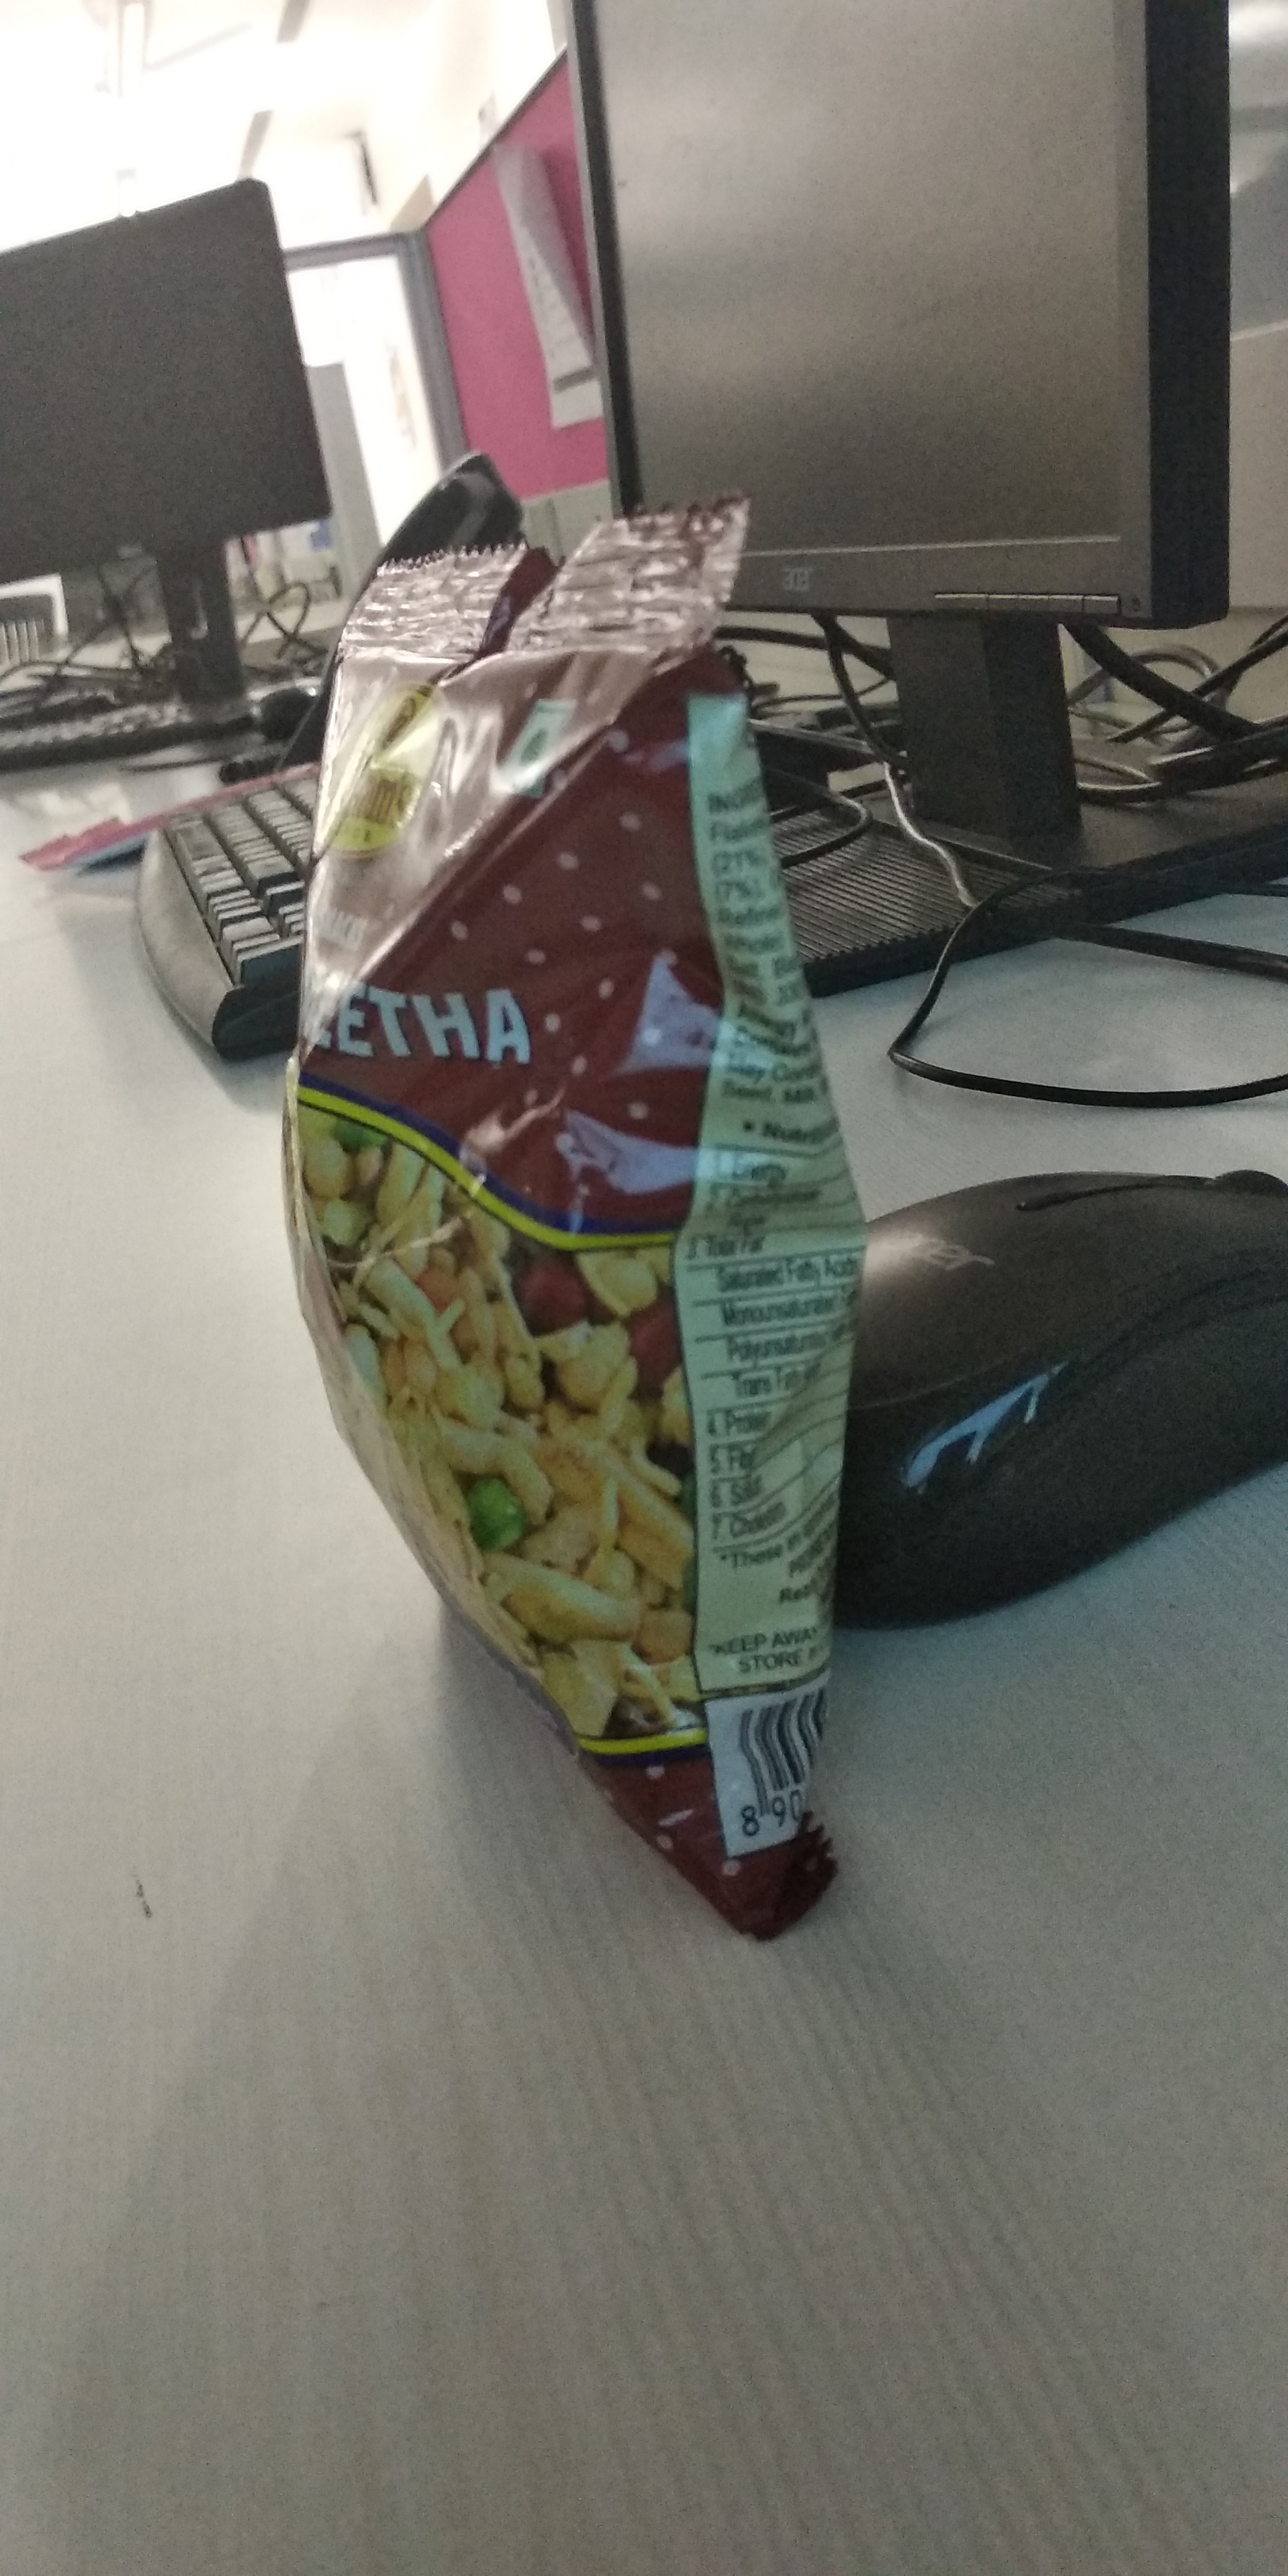khataMeetha: (276, 549, 920, 1975)
